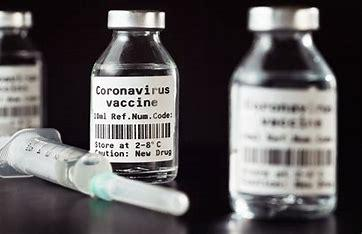Syringe: (223, 4, 345, 222), (85, 5, 184, 183)
